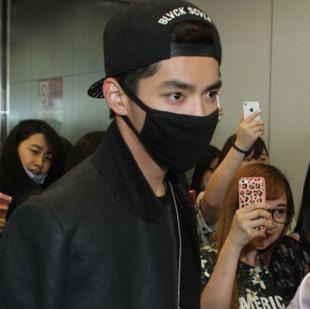NONE: (242, 198, 289, 253)
OK: (137, 64, 222, 172)
WRONG: (17, 140, 53, 186)
